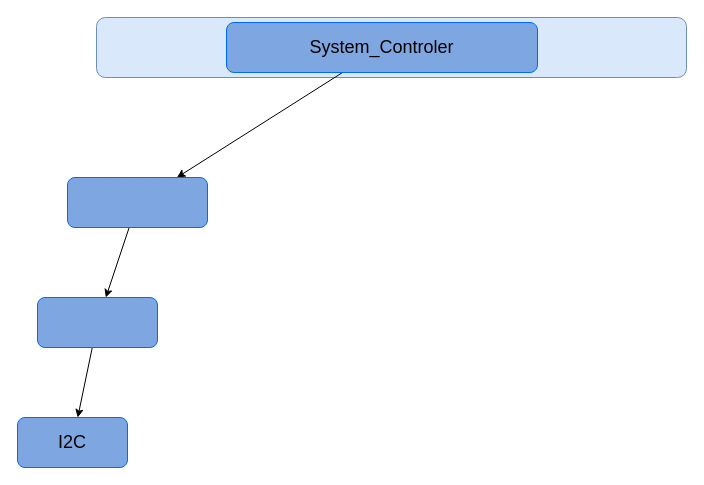
This 704x485 diagram has some shape labels left out. The centre of each missing label's shape, as x and y in pixels:
"HAL_I2C" goes at (97,322).
"LCD" goes at (137,202).
